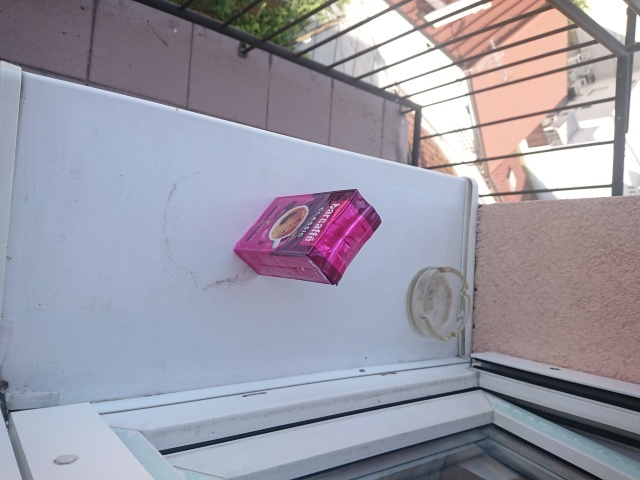Barcaffe Classic Original 225g: (234, 186, 384, 288)
